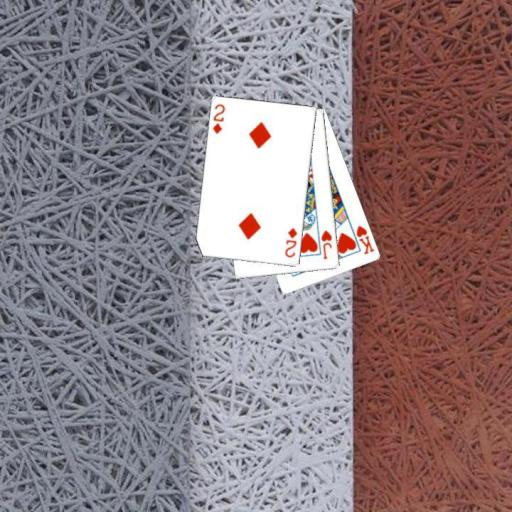2D: (282, 225, 299, 259), (210, 101, 226, 135)
JH: (319, 228, 334, 260)
KH: (354, 223, 377, 256)
